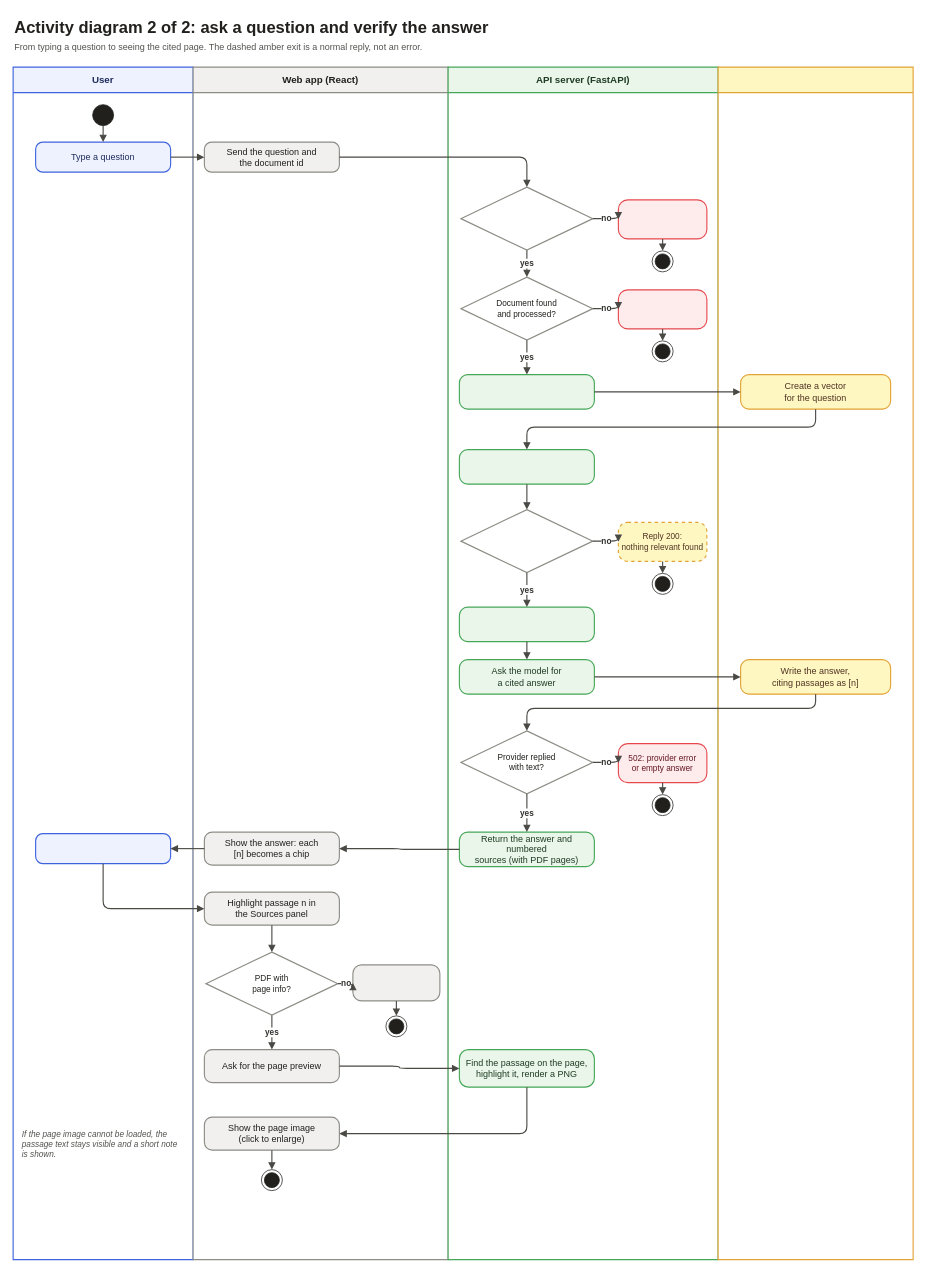
Some shapes in this 941 by 1273 pixel diagram are drawn without their labels. The shapes that lost their labels are listed below. From the top down, each one's box as (x1, y1, x2, y2) in pixels, then its label:
(460, 186, 593, 250): Valid request? (1–2000 characters)
(617, 199, 707, 239): 422: invalid input
(617, 289, 707, 329): 404 or 409: process it first
(458, 374, 595, 409): Embed the question
(458, 449, 595, 484): Find the 5 nearest passages (FAISS)
(460, 509, 593, 573): Any passages found?
(458, 606, 595, 642): Build the prompt: passages numbered [1] to [5] + rules
(717, 66, 913, 1260): AI provider
(35, 833, 171, 864): Click a chip
(352, 964, 440, 1001): Show the passage text only
